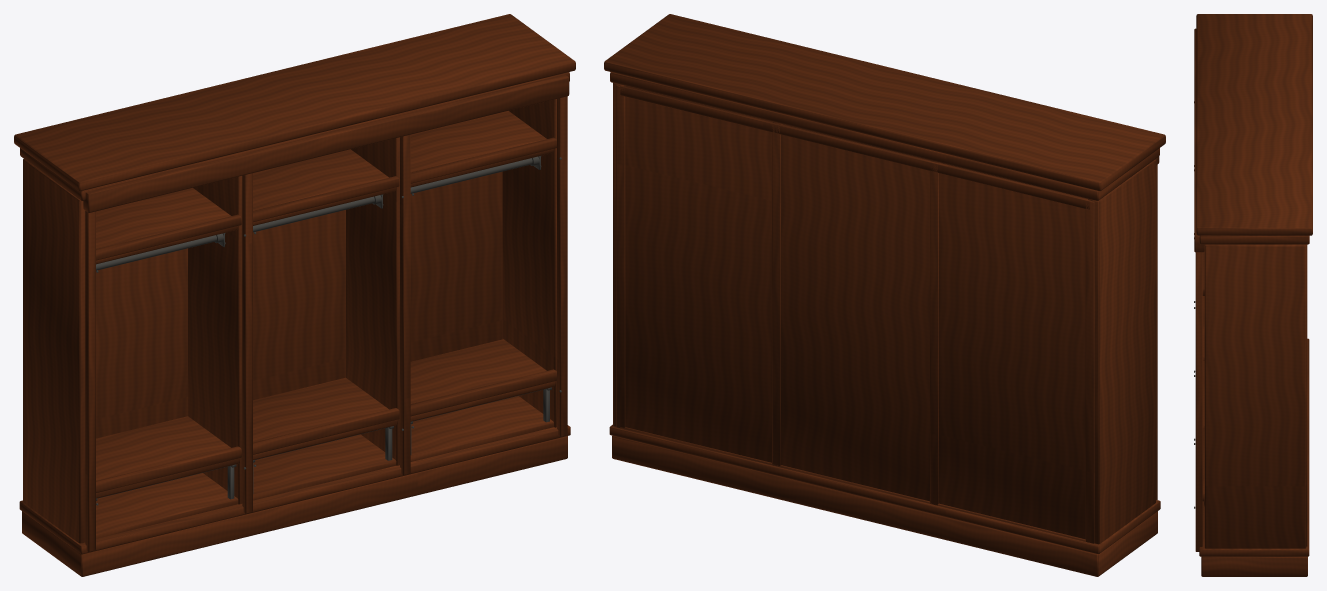
The model's file is high-end.glb.
3 renders of one model, left to right at view 1: azimuth 30°, elevation 25°; view 2: azimuth 150°, elevation 25°; view 3: azimuth 270°, elevation 25°, orthographic. The views are drawn at different scales.
Parts seen in each view (by area): view 1: LOD0, LOD0_ContinuousBacker, LOD0_CrownUpper, LOD0_SidePanel_Left, LOD0_BasePlinth, LOD0_SidePanel_Right, LOD0_FrontFascia, LOD0_BaseMolding, LOD0_CrownLower; view 2: LOD0, LOD0_CrownUpper, LOD0_SidePanel_Left, LOD0_BasePlinth, LOD0_CrownLower, LOD0_BaseMolding, LOD0_SidePanel_Right; view 3: LOD0_SidePanel_Right, LOD0_CrownUpper, LOD0, LOD0_BasePlinth, LOD0_BaseMolding, LOD0_CrownLower, LOD0_FrontFascia, LOD1_SidePanel_Right, LOD1_BaseMolding, LOD1_BasePlinth.
Boxes of the visible parts, box(x1,y1,x2,y2) form: LOD0: box(85, 96, 567, 552); LOD0_ContinuousBacker: box(96, 172, 502, 438); LOD0_CrownUpper: box(14, 14, 575, 191); LOD0_SidePanel_Left: box(23, 159, 85, 543); LOD0_BasePlinth: box(22, 436, 567, 576); LOD0_SidePanel_Right: box(502, 99, 556, 427); LOD0_FrontFascia: box(83, 75, 569, 212); LOD0_BaseMolding: box(19, 425, 570, 554); LOD0_CrownLower: box(20, 72, 569, 200); LOD0: box(616, 85, 1157, 543); LOD0_CrownUpper: box(604, 14, 1165, 191); LOD0_SidePanel_Left: box(1088, 159, 1155, 544); LOD0_BasePlinth: box(612, 435, 1157, 576); LOD0_CrownLower: box(610, 72, 1159, 200); LOD0_BaseMolding: box(609, 425, 1160, 553); LOD0_SidePanel_Right: box(613, 83, 625, 426); LOD0_SidePanel_Right: box(1204, 244, 1306, 548); LOD0_CrownUpper: box(1196, 14, 1312, 235); LOD0: box(1194, 101, 1307, 551); LOD0_BasePlinth: box(1201, 556, 1307, 576); LOD0_BaseMolding: box(1199, 338, 1309, 556); LOD0_CrownLower: box(1199, 235, 1309, 244); LOD0_FrontFascia: box(1194, 28, 1204, 251); LOD1_SidePanel_Right: box(1205, 245, 1305, 547); LOD1_BaseMolding: box(1200, 339, 1308, 555); LOD1_BasePlinth: box(1201, 556, 1307, 576).
Size of what is drawn, in the model's own units: 2.94 by 2.25 by 0.6885.
Materials: 3 (1 with a texture image).
